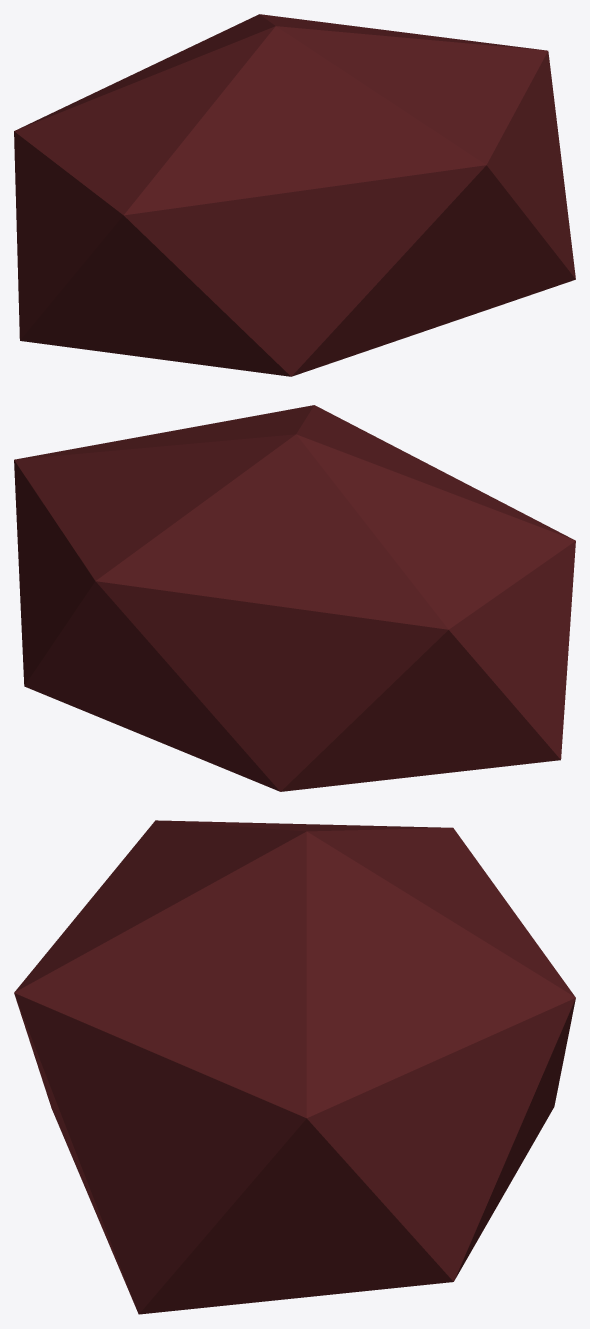
File: w3d_item_dried_berries_s.glb
The picture shows the model from 3 angles, top to bottom: view 1: azimuth 30°, elevation 25°; view 2: azimuth 150°, elevation 25°; view 3: azimuth 270°, elevation 25°; orthographic projection. The views are drawn at different scales.
Parts seen in each view (by area): view 1: item_026_dried_berries_s; view 2: item_026_dried_berries_s; view 3: item_026_dried_berries_s.
Part boxes in pixels (x1=…): item_026_dried_berries_s: x1=14, y1=14, x2=575, y2=376; item_026_dried_berries_s: x1=14, y1=405, x2=575, y2=791; item_026_dried_berries_s: x1=14, y1=820, x2=575, y2=1314.
Bounding box in the file's own units: 0.3049 × 0.186 × 0.2192.
